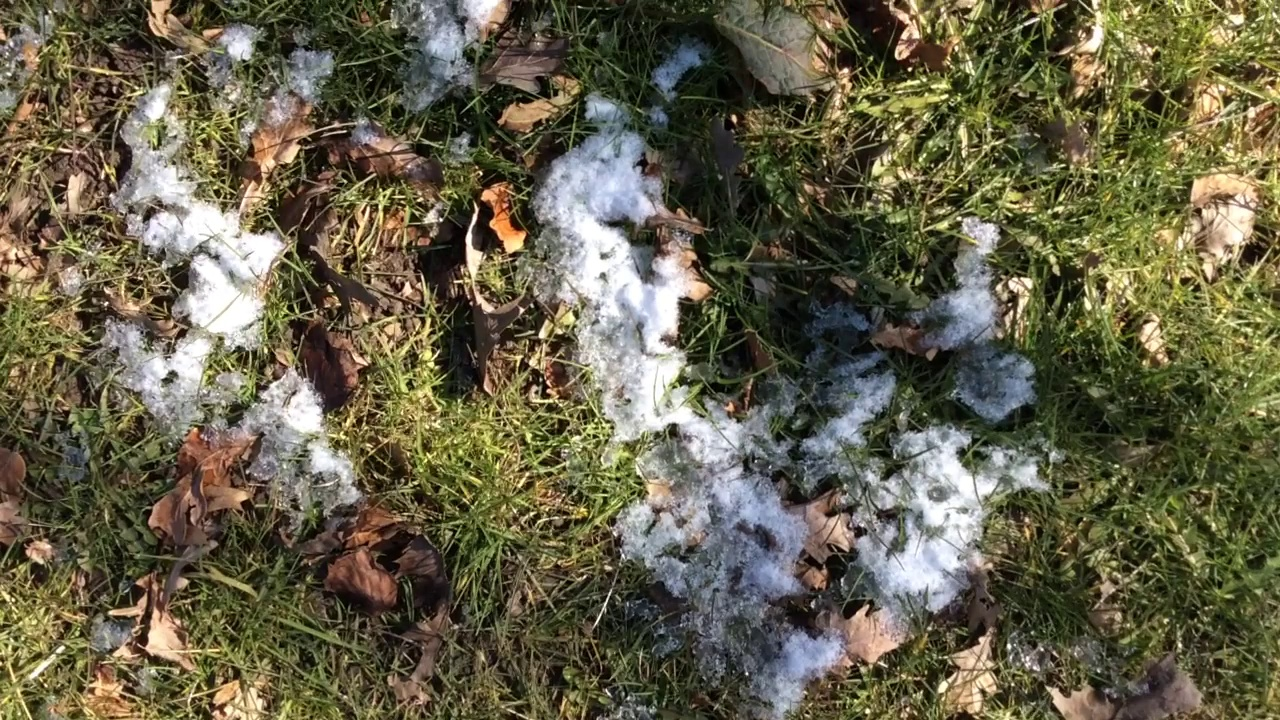root: (644, 1, 713, 37)
rumex: (697, 1, 850, 109)
